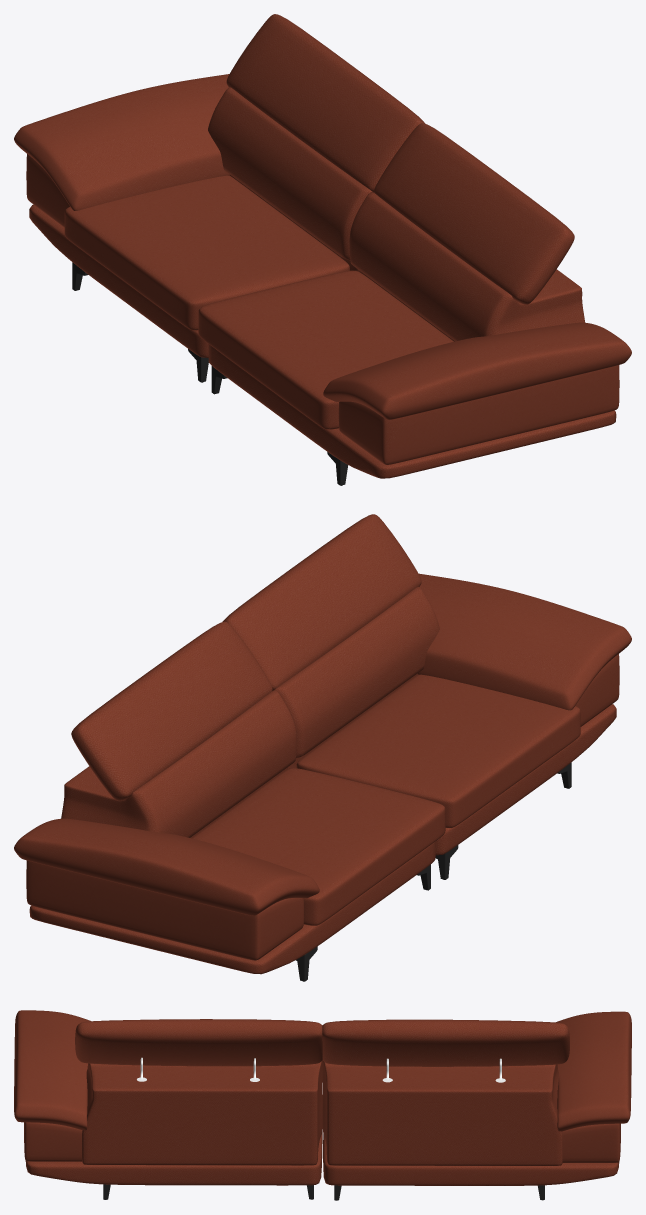
The model's file is caden20260211for_glb.glb.
3 views of the same model, one above another, from view 1: azimuth 30°, elevation 25°; view 2: azimuth 150°, elevation 25°; view 3: azimuth 270°, elevation 25° (orthographic). The views are drawn at different scales.
Visible parts, largest first — view 1: Cube.009, Cube.001, Cube.008, Cube.004, Cube.012, Cube, Cube.003, Cube.002, Cube.011, Cube.007, Cube.013, Cube.010; view 2: Cube.001, Cube.009, Cube, Cube.012, Cube.004, Cube.008, Cube.011, Cube.003, Cube.010, Cube.013, Cube.007, Cube.002; view 3: Cube.003, Cube.011, Cube.004, Cube.012, Cube.008, Cube, Cube.007, Cube.013, Cube.010, Cube.002.
Boxes of the visible parts, x1=… form: Cube.009: x1=64, y1=175, x2=349, y2=330; Cube.001: x1=198, y1=270, x2=453, y2=429; Cube.008: x1=14, y1=74, x2=229, y2=210; Cube.004: x1=374, y1=123, x2=574, y2=304; Cube.012: x1=226, y1=14, x2=424, y2=192; Cube: x1=323, y1=322, x2=631, y2=419; Cube.003: x1=349, y1=192, x2=585, y2=341; Cube.002: x1=338, y1=365, x2=619, y2=464; Cube.011: x1=208, y1=87, x2=372, y2=271; Cube.007: x1=208, y1=344, x2=616, y2=478; Cube.013: x1=29, y1=204, x2=208, y2=357; Cube.010: x1=26, y1=154, x2=69, y2=227; Cube.001: x1=296, y1=674, x2=580, y2=827; Cube.009: x1=191, y1=768, x2=445, y2=925; Cube: x1=417, y1=573, x2=631, y2=710; Cube.012: x1=71, y1=621, x2=272, y2=800; Cube.004: x1=222, y1=514, x2=421, y2=690; Cube.008: x1=14, y1=818, x2=319, y2=915; Cube.011: x1=61, y1=690, x2=296, y2=837; Cube.003: x1=274, y1=586, x2=439, y2=769; Cube.010: x1=26, y1=860, x2=303, y2=960; Cube.013: x1=29, y1=842, x2=435, y2=974; Cube.007: x1=435, y1=704, x2=616, y2=855; Cube.002: x1=575, y1=654, x2=619, y2=726; Cube.003: x1=82, y1=1060, x2=322, y2=1165; Cube.011: x1=322, y1=1060, x2=562, y2=1165; Cube.004: x1=75, y1=1019, x2=322, y2=1066; Cube.012: x1=322, y1=1019, x2=569, y2=1066; Cube.008: x1=555, y1=1011, x2=631, y2=1131; Cube: x1=14, y1=1010, x2=90, y2=1130; Cube.007: x1=25, y1=1132, x2=322, y2=1185; Cube.013: x1=323, y1=1134, x2=619, y2=1185; Cube.010: x1=562, y1=1123, x2=620, y2=1162; Cube.002: x1=24, y1=1122, x2=82, y2=1161.
Bounding box in the file's own units: 7.27 × 5.87 × 18.39.
Materials: 4 (2 with a texture image).
